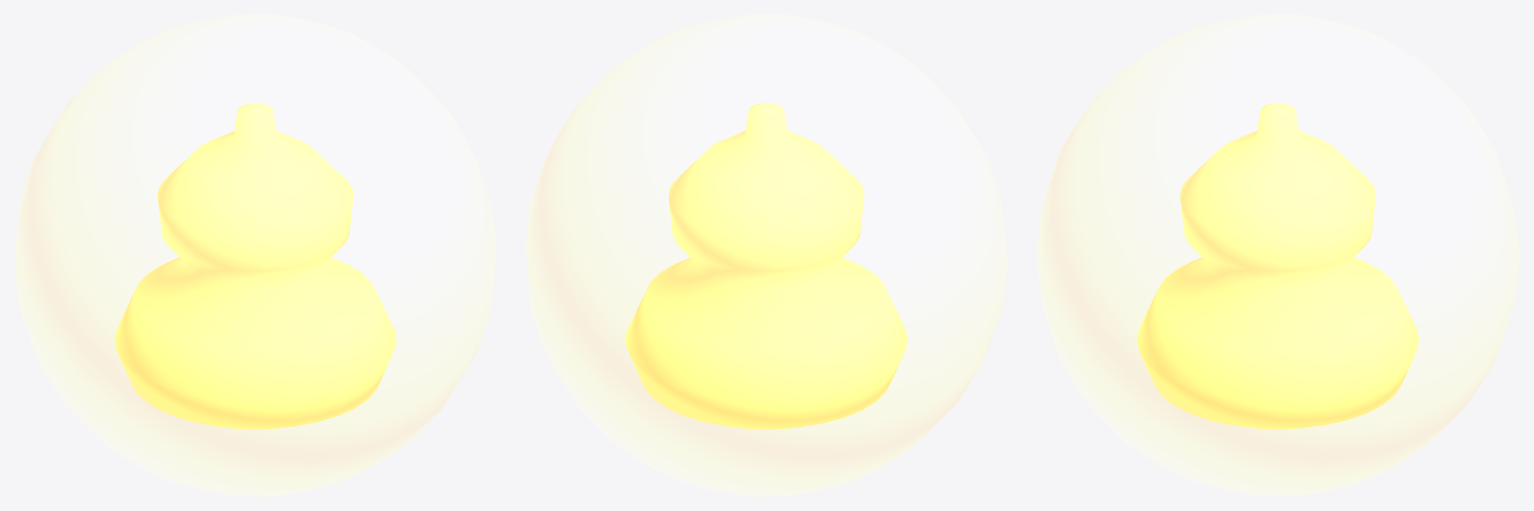
File: Orb_02_橘橙灵珠.glb
3 renders of one model, left to right at view 1: azimuth 30°, elevation 25°; view 2: azimuth 150°, elevation 25°; view 3: azimuth 270°, elevation 25°, orthographic.
Visible parts, largest first — view 1: Sphere, SpiritGourd; view 2: Sphere, SpiritGourd; view 3: Sphere, SpiritGourd.
Boxes of the visible parts, x1=… form: Sphere: x1=14, y1=14, x2=496, y2=496; SpiritGourd: x1=114, y1=103, x2=396, y2=429; Sphere: x1=525, y1=14, x2=1007, y2=496; SpiritGourd: x1=625, y1=103, x2=907, y2=429; Sphere: x1=1036, y1=14, x2=1519, y2=496; SpiritGourd: x1=1137, y1=103, x2=1418, y2=429.
Bounding box in the file's own units: 0.96 × 0.96 × 0.96.
